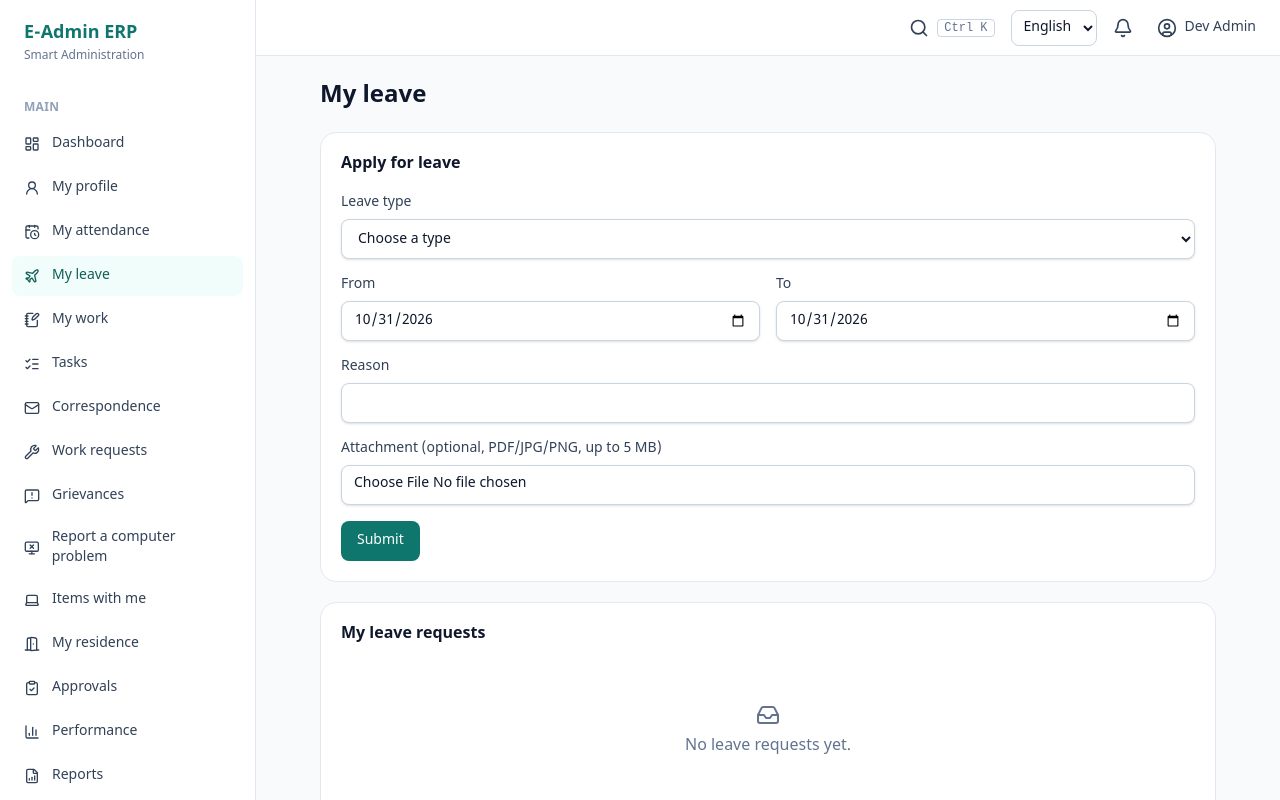
Test case: phase 4 screens › blocks a leave request that ends before it starts
Select "Casual leave" in the dropdown labelled "Leave type": [768, 239] box x1=341 y1=219 x2=1195 y2=259
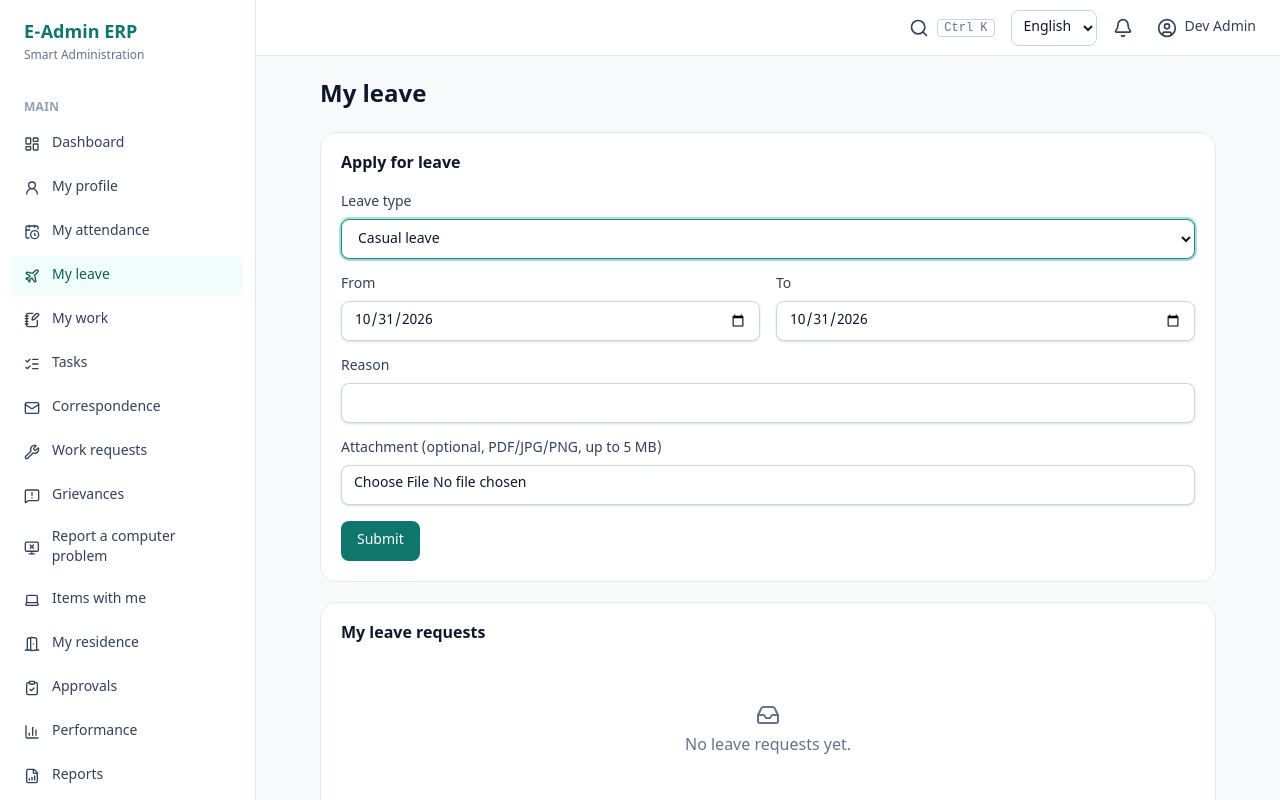
In the date field labelled "From": [550, 321] box x1=341 y1=301 x2=760 y2=341, type "2026-10-28"
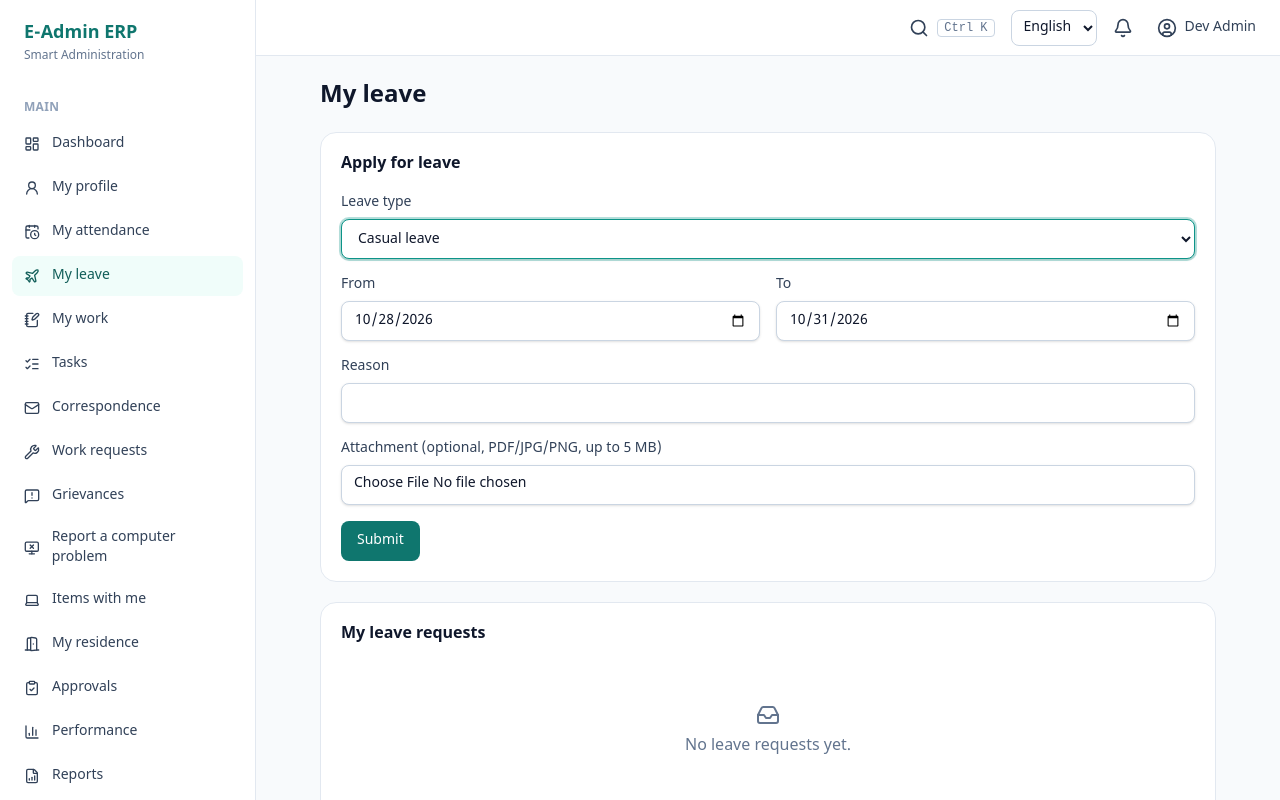
In the date field labelled "To": [986, 321] box x1=776 y1=301 x2=1195 y2=341, type "2026-10-27"
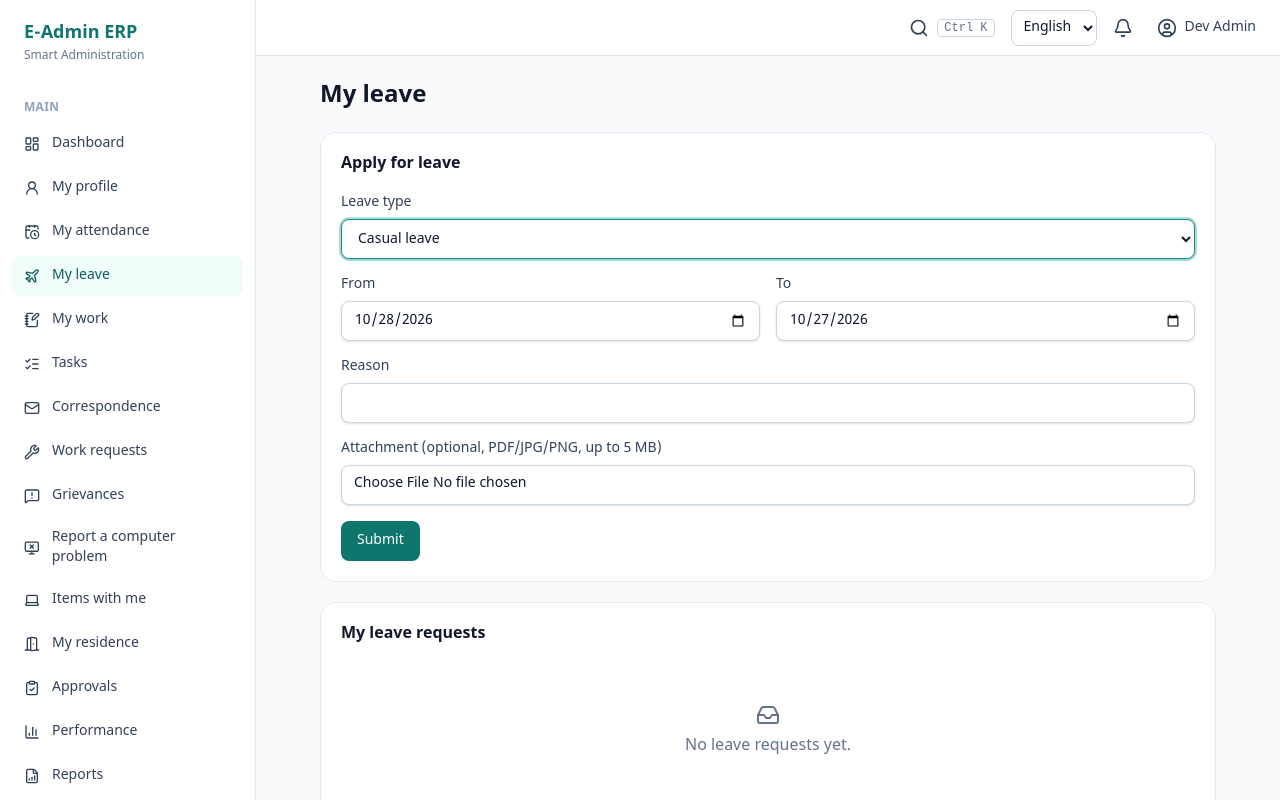
In the field labelled "Reason": [768, 403] box x1=341 y1=383 x2=1195 y2=423, type "Family function"
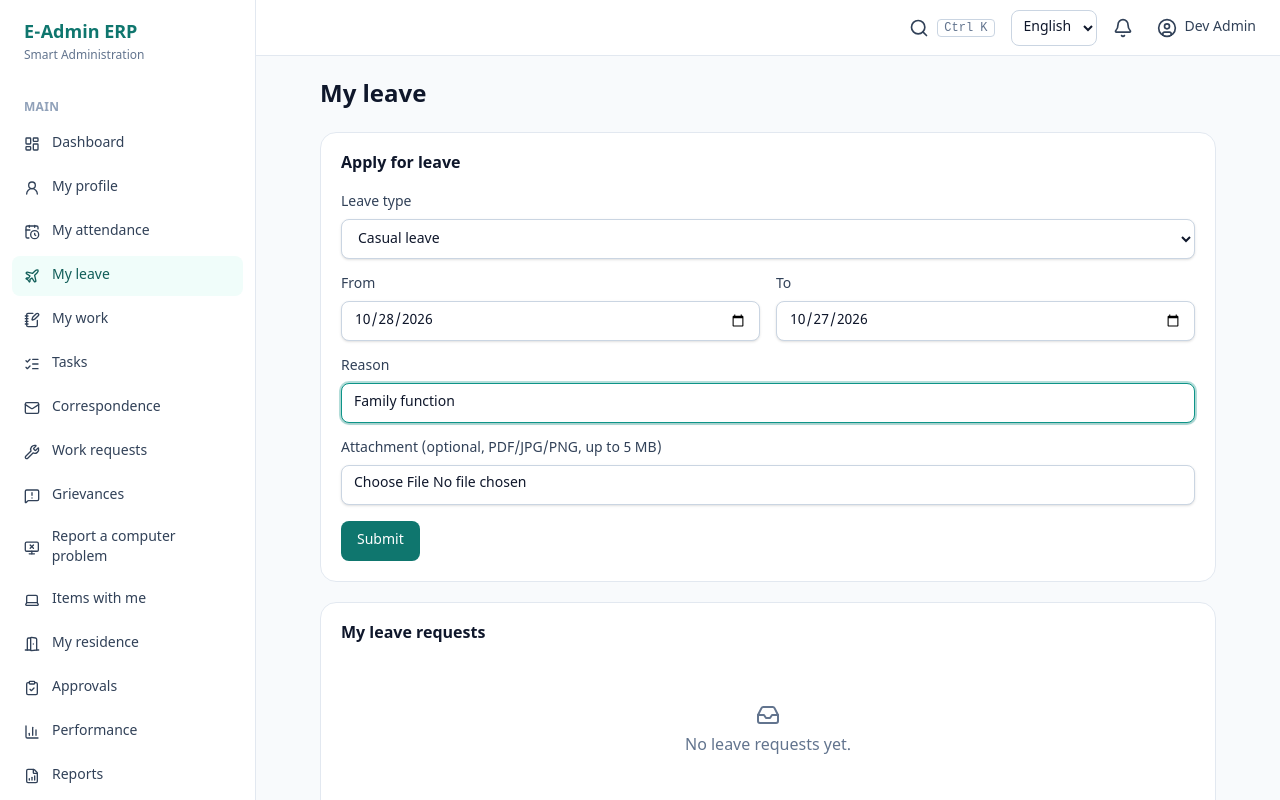
Click the button "Submit": [380, 541] box x1=341 y1=521 x2=420 y2=561
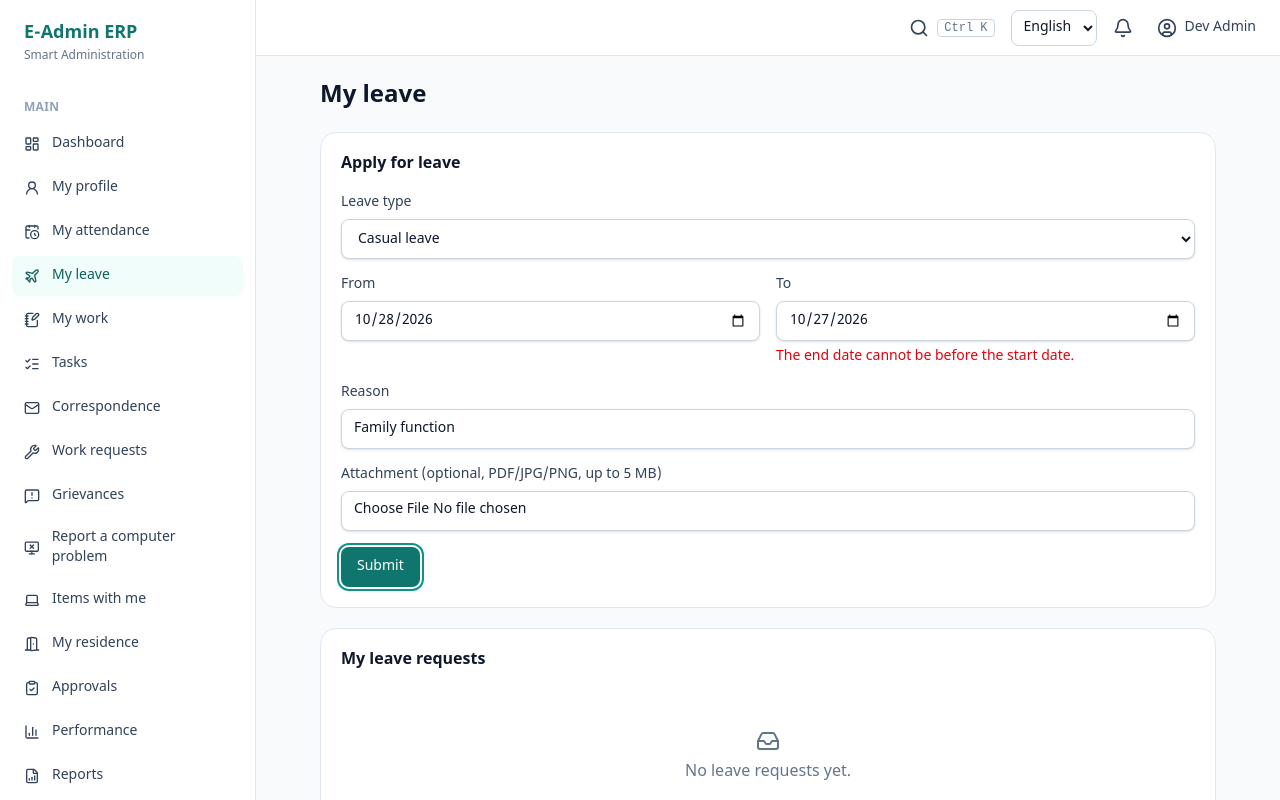
expect the text "The end date cannot be before the start date." is shown: met, box x1=776 y1=347 x2=1074 y2=366
